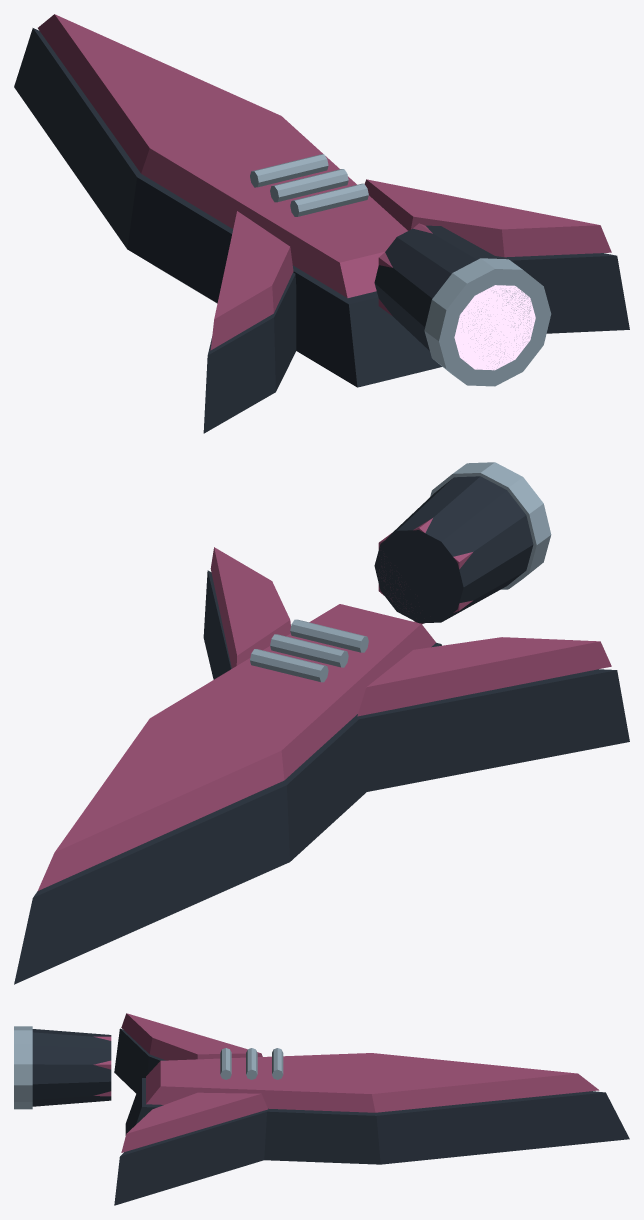
File: c2_kamikaze.glb
3 views of the same model, one above another, from view 1: azimuth 30°, elevation 25°; view 2: azimuth 150°, elevation 25°; view 3: azimuth 270°, elevation 25° (orthographic). The views are drawn at different scales.
Visible parts, largest first — view 1: kamikaze / Armor, kamikaze / Chassis, kamikaze / Titanium, kamikaze / Energy; view 2: kamikaze / Chassis, kamikaze / Armor, kamikaze / Titanium; view 3: kamikaze / Chassis, kamikaze / Armor, kamikaze / Titanium.
Part boxes in pixels (x1=…): kamikaze / Armor: x1=38, y1=14, x2=611, y2=350; kamikaze / Chassis: x1=14, y1=28, x2=629, y2=433; kamikaze / Titanium: x1=250, y1=154, x2=551, y2=386; kamikaze / Energy: x1=454, y1=285, x2=535, y2=370; kamikaze / Chassis: x1=14, y1=476, x2=629, y2=984; kamikaze / Armor: x1=38, y1=518, x2=611, y2=890; kamikaze / Titanium: x1=250, y1=462, x2=551, y2=682; kamikaze / Chassis: x1=32, y1=1028, x2=629, y2=1205; kamikaze / Armor: x1=93, y1=1013, x2=599, y2=1152; kamikaze / Titanium: x1=14, y1=1026, x2=283, y2=1109.
Size of the model in its own units: 1.1 by 0.42 by 2.15.
